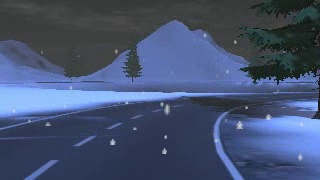Lane: (0, 94, 317, 179)
